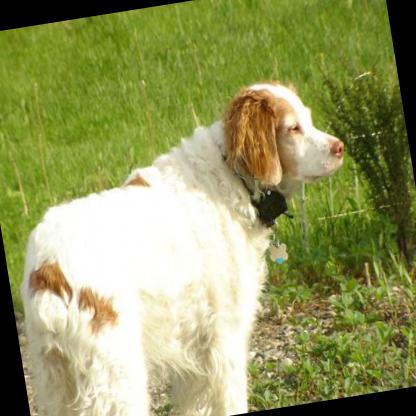Brittany_spaniel: (0, 68, 380, 416)
